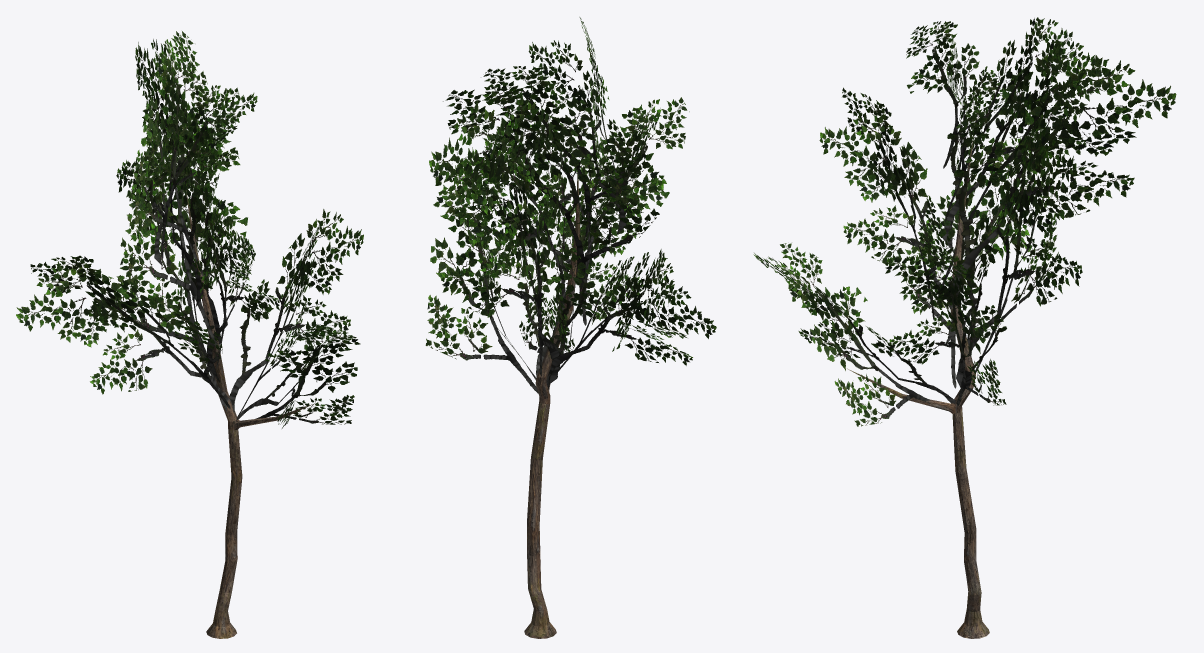
Rendered from tree_5.dae.
3 views of the same model, side by side, from view 1: azimuth 30°, elevation 25°; view 2: azimuth 150°, elevation 25°; view 3: azimuth 270°, elevation 25° (orthographic). The views are drawn at different scales.
Visible parts, largest first — view 1: Mesh_Object; view 2: Mesh_Object; view 3: Mesh_Object.
Part boxes in pixels (x1,y1,x2,y2): Mesh_Object: (16, 31, 363, 638); Mesh_Object: (425, 17, 716, 638); Mesh_Object: (753, 17, 1176, 638).
Bounding box in the file's own units: 4.37 × 8.09 × 5.28.
